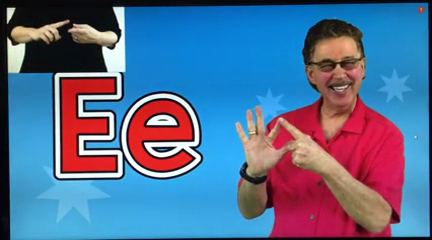E: (235, 104, 324, 173), (38, 17, 95, 47)
